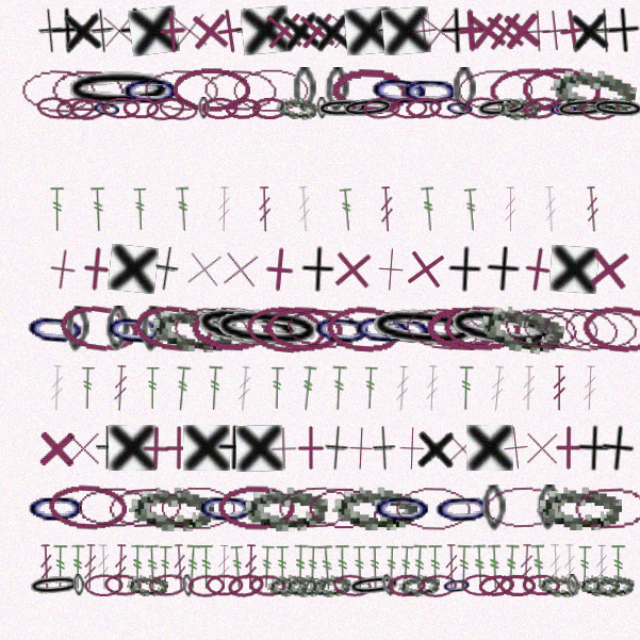chain: (414, 314, 527, 372), (176, 314, 289, 371), (342, 317, 453, 369), (196, 318, 306, 368), (58, 97, 166, 140), (447, 316, 532, 369), (515, 93, 599, 145), (53, 316, 132, 369), (468, 317, 546, 369), (487, 317, 566, 368), (124, 317, 202, 368), (229, 318, 307, 368), (507, 318, 585, 368), (140, 319, 222, 366), (377, 318, 454, 368), (526, 318, 603, 368), (160, 318, 236, 367), (545, 318, 620, 367), (489, 95, 566, 142), (415, 319, 491, 366), (44, 487, 120, 534), (227, 489, 308, 533), (265, 319, 340, 366), (121, 489, 201, 533), (178, 320, 254, 366), (248, 320, 324, 366), (305, 319, 379, 366), (133, 96, 208, 142), (98, 488, 173, 534), (312, 489, 392, 532), (504, 489, 584, 532), (189, 96, 263, 142), (310, 96, 384, 142), (453, 488, 528, 533), (18, 96, 91, 142), (369, 489, 445, 533), (45, 96, 119, 141), (259, 488, 333, 533), (536, 488, 610, 533), (399, 320, 471, 366), (428, 97, 503, 141), (459, 97, 534, 141), (204, 489, 278, 533), (217, 97, 292, 140), (161, 97, 235, 140), (70, 489, 144, 532), (149, 489, 222, 532), (347, 318, 411, 367), (287, 489, 359, 532), (95, 319, 158, 367), (290, 319, 353, 367), (344, 95, 407, 142), (21, 319, 84, 366), (328, 319, 391, 366), (182, 488, 243, 533), (374, 97, 435, 141), (405, 489, 466, 533), (348, 489, 408, 533), (112, 97, 172, 140), (23, 489, 83, 532), (325, 571, 378, 597), (319, 123, 372, 148), (445, 123, 498, 148), (520, 124, 573, 148), (554, 124, 607, 148), (25, 572, 78, 596), (296, 125, 348, 147), (60, 321, 85, 365), (131, 321, 155, 365), (452, 489, 476, 533), (212, 570, 250, 597), (250, 571, 291, 596), (373, 571, 414, 596), (148, 123, 187, 149), (305, 97, 328, 140), (99, 321, 122, 364), (504, 489, 527, 532), (136, 123, 174, 149), (290, 572, 330, 596), (505, 572, 545, 596), (556, 572, 596, 596), (33, 123, 71, 148), (275, 97, 297, 140), (425, 97, 447, 140), (490, 123, 527, 148), (259, 124, 299, 147), (392, 572, 430, 596), (52, 124, 89, 148), (312, 572, 349, 596), (448, 572, 485, 596), (467, 125, 506, 147), (267, 573, 306, 595), (340, 124, 377, 147), (97, 572, 134, 595), (139, 572, 176, 595), (363, 572, 400, 595), (380, 124, 416, 147), (402, 124, 438, 147), (436, 124, 472, 147), (119, 573, 158, 594), (543, 573, 582, 594), (545, 125, 582, 147), (79, 573, 116, 594), (65, 125, 100, 147), (211, 125, 246, 147), (176, 573, 211, 595), (234, 573, 269, 595), (96, 125, 132, 146), (366, 125, 402, 146), (193, 573, 229, 594), (433, 573, 469, 594), (490, 573, 526, 594), (85, 124, 116, 148), (115, 125, 150, 146), (189, 125, 224, 146), (236, 125, 271, 146), (468, 573, 503, 594), (417, 124, 447, 147), (414, 572, 444, 595), (515, 125, 544, 147), (357, 572, 373, 595), (170, 573, 183, 595), (68, 573, 80, 594), (532, 573, 544, 594), (186, 125, 197, 146), (297, 125, 308, 146)
single: (375, 262, 424, 311), (120, 39, 169, 87), (192, 39, 240, 87), (389, 39, 437, 87), (450, 39, 498, 87), (514, 39, 562, 87), (35, 263, 83, 311), (481, 263, 529, 311), (101, 263, 149, 310), (154, 39, 201, 86), (226, 39, 273, 86), (274, 39, 321, 86), (374, 39, 421, 86), (434, 39, 481, 86), (466, 39, 513, 86), (497, 39, 544, 86), (67, 263, 114, 310), (168, 263, 215, 310), (202, 263, 249, 310), (548, 263, 595, 310), (461, 431, 508, 478), (323, 40, 370, 86), (358, 40, 405, 86), (139, 40, 185, 86), (174, 40, 220, 86), (239, 264, 285, 310), (308, 264, 354, 310), (344, 264, 390, 310), (516, 264, 562, 310), (260, 39, 305, 86), (89, 40, 134, 85), (244, 40, 289, 85), (305, 40, 350, 85), (420, 40, 465, 85), (221, 433, 266, 477), (291, 40, 334, 86), (483, 41, 527, 85), (31, 433, 75, 477), (124, 433, 168, 477), (244, 433, 288, 477), (317, 433, 361, 477), (365, 433, 409, 477), (412, 433, 456, 477), (102, 433, 146, 476), (172, 433, 216, 476), (438, 433, 482, 476), (57, 40, 99, 85), (533, 40, 575, 85), (56, 433, 99, 476), (146, 433, 189, 476), (270, 433, 313, 476), (487, 433, 530, 476), (513, 433, 555, 476), (389, 433, 430, 477), (561, 432, 598, 478), (109, 40, 145, 85), (567, 40, 603, 85), (454, 264, 490, 309), (45, 41, 80, 85), (411, 41, 445, 85), (281, 265, 315, 309), (419, 265, 453, 309), (540, 433, 574, 477), (202, 433, 236, 476), (143, 264, 171, 309), (219, 40, 245, 85), (35, 41, 60, 85), (84, 41, 109, 85), (353, 41, 378, 85), (304, 433, 329, 477), (557, 41, 581, 85), (349, 433, 373, 477), (90, 433, 112, 476)
treble: (162, 377, 181, 421), (298, 545, 317, 589), (317, 209, 335, 253), (434, 209, 452, 253), (280, 377, 298, 421), (458, 377, 476, 421), (193, 377, 211, 420), (172, 545, 190, 588), (385, 545, 403, 588), (221, 377, 238, 421), (84, 209, 101, 252), (394, 209, 411, 252), (548, 209, 565, 252), (310, 377, 327, 420), (135, 545, 152, 588), (215, 545, 232, 588), (373, 545, 390, 588), (46, 209, 62, 252), (124, 209, 140, 252), (164, 209, 180, 252), (278, 209, 294, 252), (355, 209, 371, 252), (509, 209, 525, 252), (105, 377, 121, 420), (340, 377, 356, 420), (370, 377, 386, 420), (430, 377, 446, 420), (546, 377, 562, 420), (49, 545, 65, 588), (105, 545, 121, 588), (161, 545, 177, 588), (186, 545, 202, 588), (243, 545, 259, 588), (286, 545, 302, 588), (314, 545, 330, 588), (330, 545, 346, 588), (360, 545, 376, 588), (401, 545, 417, 588), (428, 545, 444, 588), (472, 545, 488, 588), (486, 545, 502, 588), (498, 545, 514, 588), (573, 545, 589, 588), (203, 209, 218, 252), (241, 209, 256, 252), (46, 377, 61, 420), (75, 377, 90, 420), (136, 377, 151, 420), (253, 377, 268, 420), (398, 377, 413, 420), (489, 377, 504, 420), (36, 545, 51, 588), (77, 545, 92, 588), (148, 545, 163, 588), (228, 545, 243, 588), (258, 545, 273, 588), (345, 545, 360, 588), (443, 545, 458, 588), (457, 545, 472, 588), (514, 545, 529, 588), (542, 545, 557, 588), (472, 209, 486, 252), (518, 377, 532, 420), (66, 545, 80, 588), (90, 545, 104, 588), (122, 545, 136, 588), (203, 545, 217, 588), (275, 545, 289, 588), (417, 545, 431, 588), (528, 545, 542, 588), (558, 545, 572, 588)
